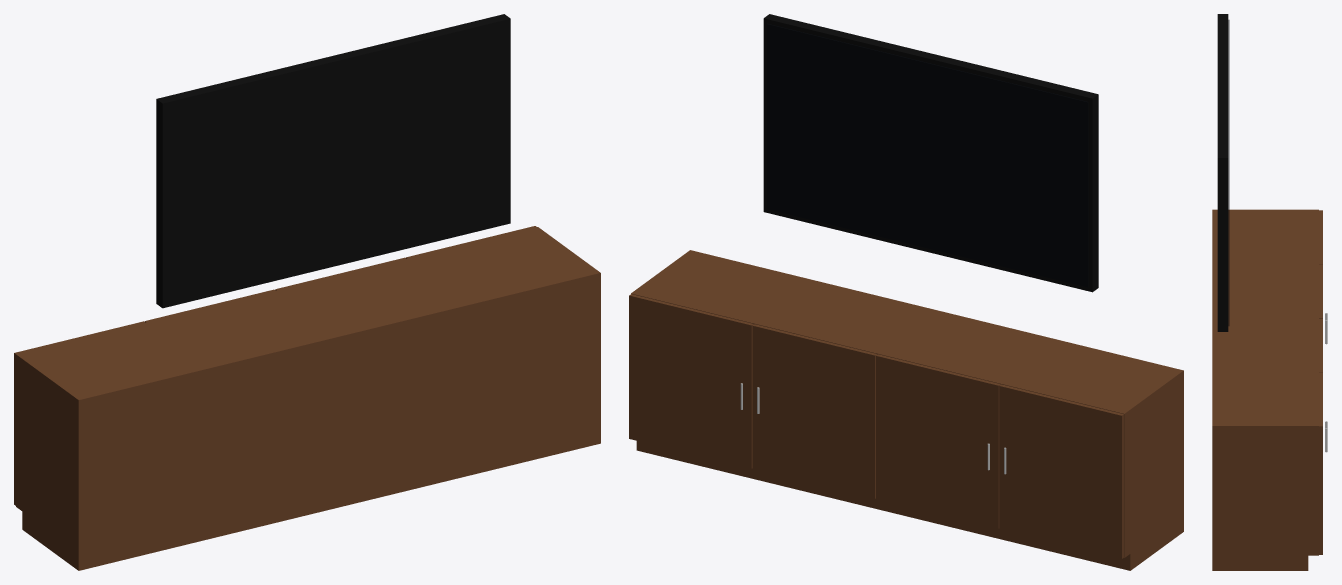
File: office.storage.credenza.glb
The picture shows the model from 3 angles, left to right: view 1: azimuth 30°, elevation 25°; view 2: azimuth 150°, elevation 25°; view 3: azimuth 270°, elevation 25°; orthographic projection. The views are drawn at different scales.
Parts seen in each view (by area): view 1: main__hardwood, main__plastic_black; view 2: main__hardwood, main__screen, main__plastic_black; view 3: main__hardwood, main__plastic_black, main__screen, main__steel_stainless.
Boxes of the visible parts, x1,y1,x2,y2 form: main__hardwood: (14,226,600,570); main__plastic_black: (156,14,510,308); main__hardwood: (629,250,1183,570); main__screen: (767,23,1088,287); main__plastic_black: (763,14,1098,292); main__hardwood: (1212,209,1322,570); main__plastic_black: (1217,14,1228,331); main__screen: (1228,20,1229,325); main__steel_stainless: (1325,313,1327,452).
Bounding box in the file's own units: 2.4 × 1.95 × 0.54.
